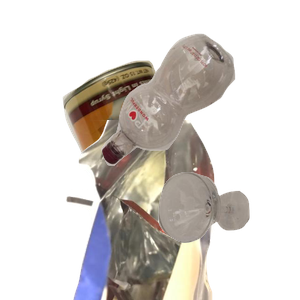glass: (156, 170, 300, 300)
metal: (60, 58, 300, 238)
plastic: (99, 31, 300, 189)
trash: (63, 120, 300, 300)
